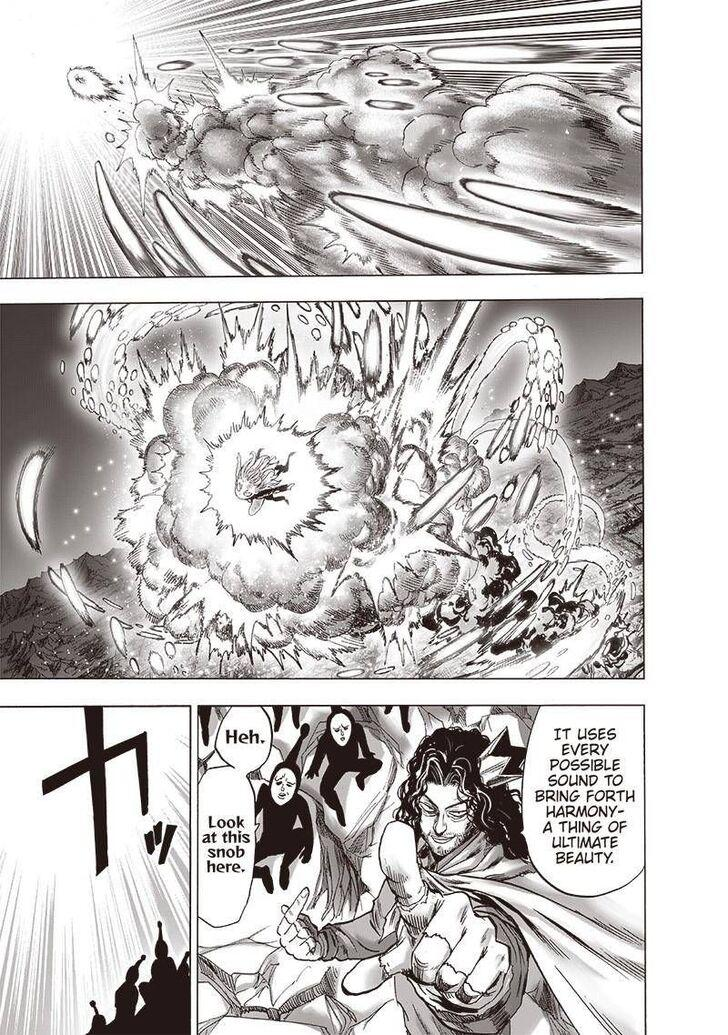Bubble: (520, 703, 647, 898), (196, 765, 258, 928), (213, 705, 274, 774)
